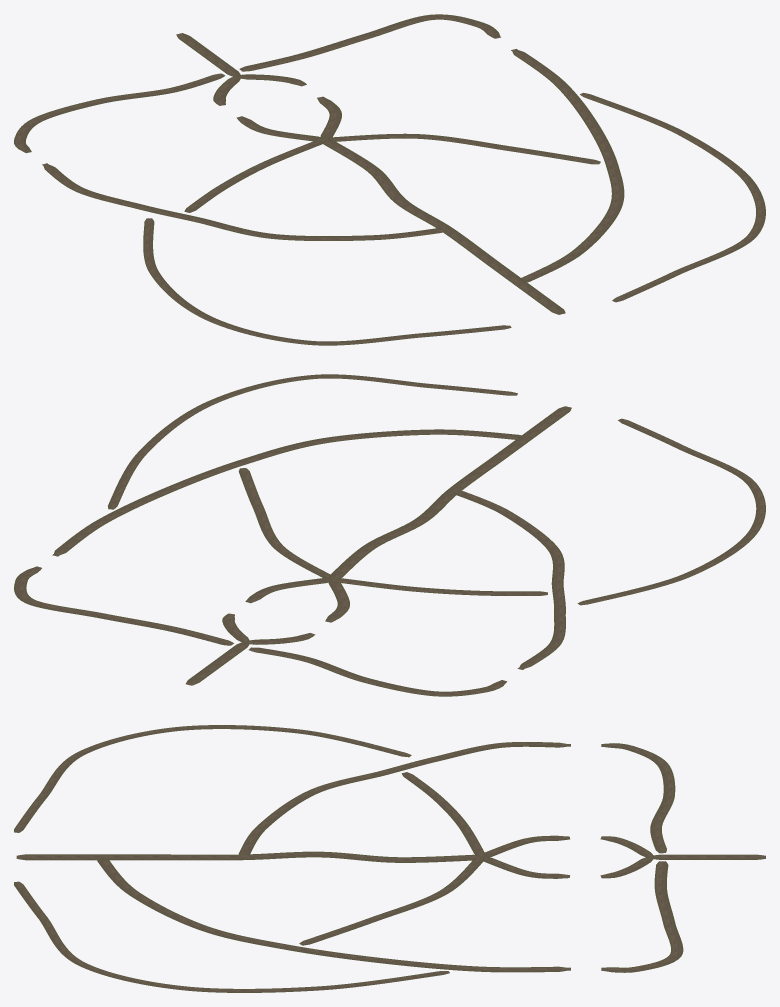
File: duckov_compound_paths.obj
3 renders of one model, top to bottom at view 1: azimuth 30°, elevation 25°; view 2: azimuth 150°, elevation 25°; view 3: azimuth 270°, elevation 25°, orthographic. The views are drawn at different scales.
Visible parts, largest first — view 1: DuckovCompoundPaths; view 2: DuckovCompoundPaths; view 3: DuckovCompoundPaths.
Part boxes in pixels (x1,y1,x2,y2): DuckovCompoundPaths: [14, 14, 765, 345]; DuckovCompoundPaths: [14, 374, 765, 696]; DuckovCompoundPaths: [14, 725, 765, 992].
Bounding box in the file's own units: 196 × 0 × 233.
